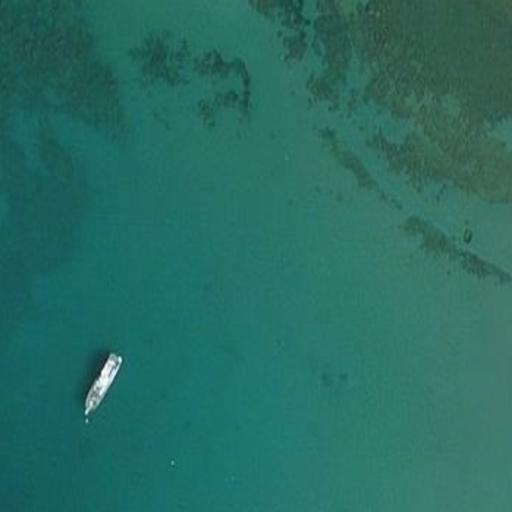ship: (81, 350, 125, 423)
